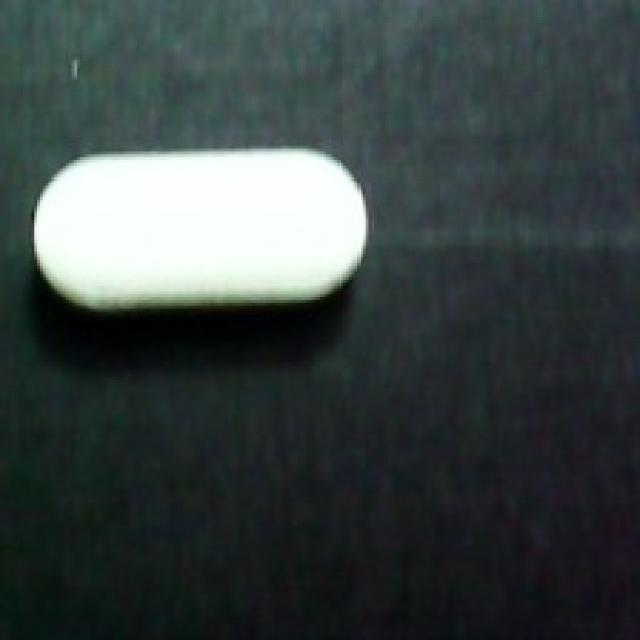no-defect: (26, 146, 374, 329)
